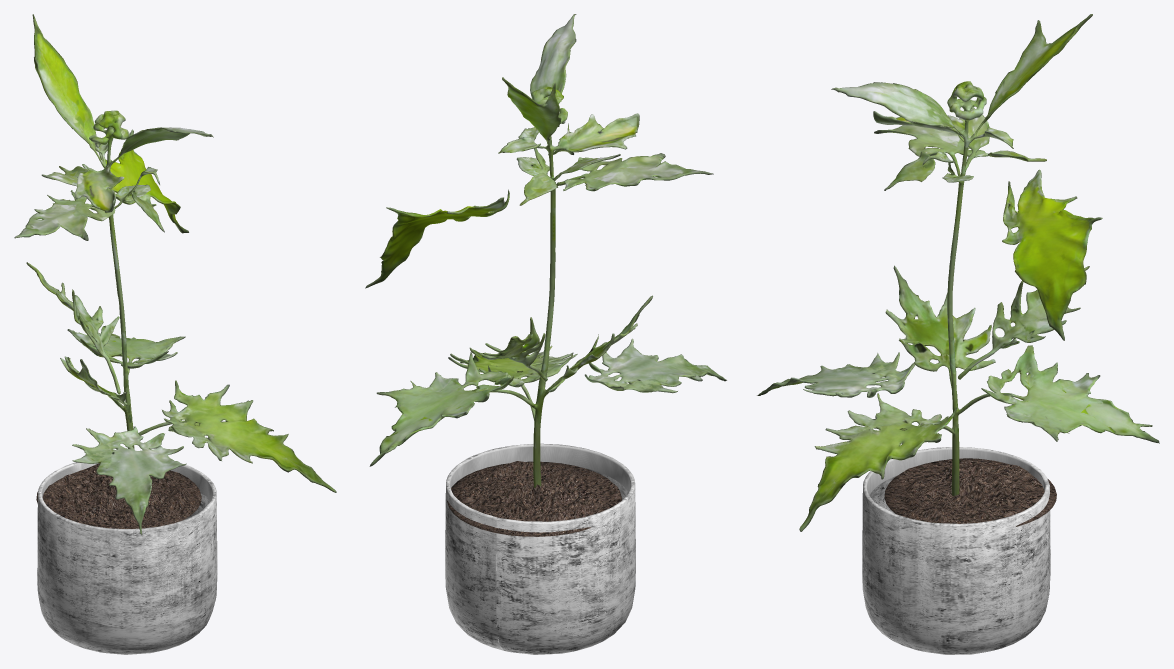
Rendered from Thumba_.glb.
The picture shows the model from 3 angles, left to right: view 1: azimuth 30°, elevation 25°; view 2: azimuth 150°, elevation 25°; view 3: azimuth 270°, elevation 25°; orthographic projection. The views are drawn at different scales.
Parts seen in each view (by area): view 1: G-AUL10_0, Mesh_0.017; view 2: G-AUL10_0, Mesh_0.017; view 3: Mesh_0.017, G-AUL10_0.
Boxes of the visible parts, bbox=[...] form: G-AUL10_0: bbox=[36, 462, 217, 654]; Mesh_0.017: bbox=[14, 14, 336, 534]; G-AUL10_0: bbox=[445, 443, 635, 654]; Mesh_0.017: bbox=[365, 14, 726, 487]; Mesh_0.017: bbox=[757, 14, 1159, 531]; G-AUL10_0: bbox=[862, 447, 1056, 654].
Bounding box in the file's own units: 1.18 × 2.39 × 1.45.
Materials: 3 (3 with a texture image).
